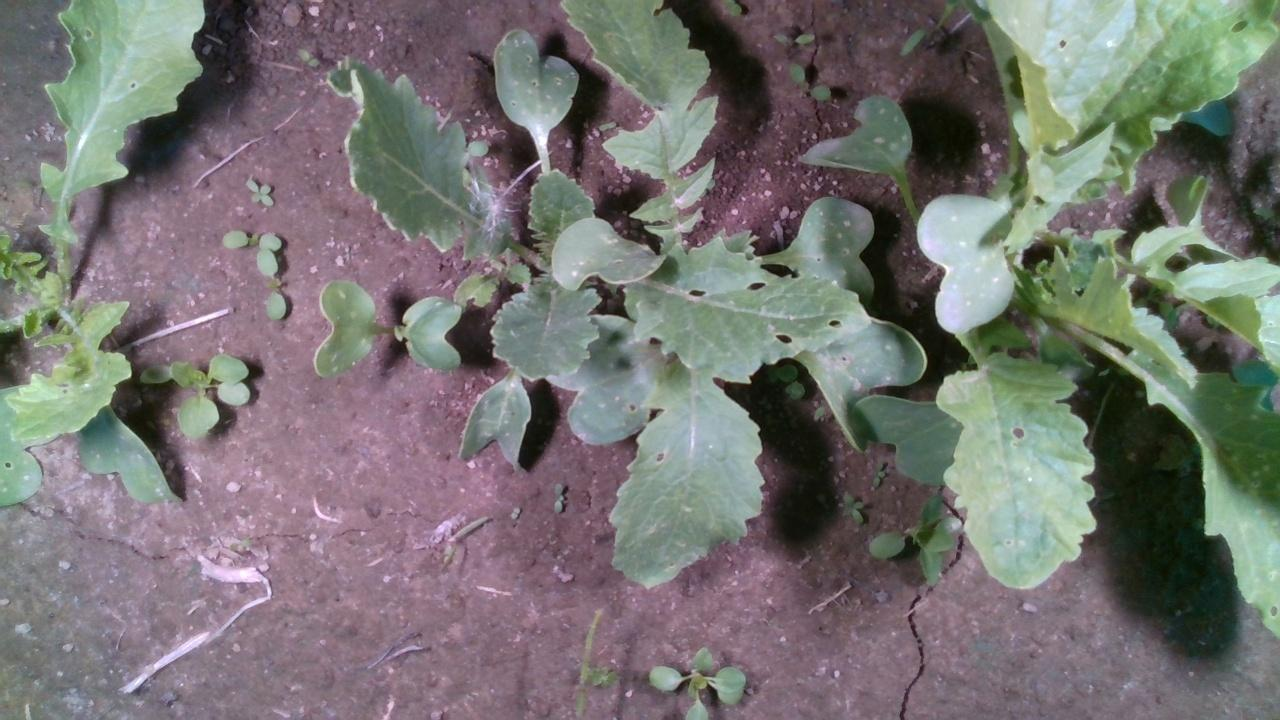weed: (786, 60, 833, 101), (244, 178, 274, 207), (840, 492, 865, 526), (295, 45, 318, 68), (770, 33, 818, 44), (553, 483, 563, 514), (509, 504, 521, 520)
